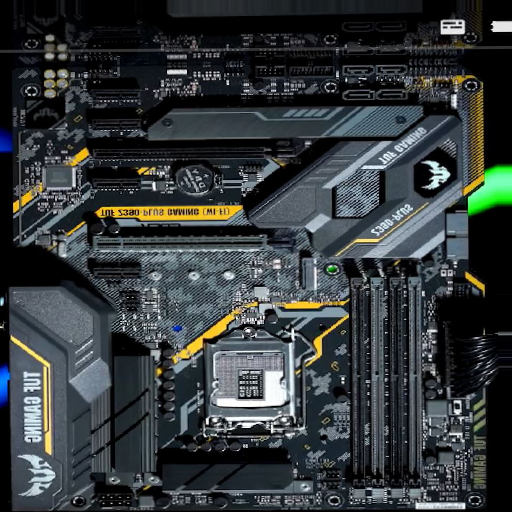CPU: (203, 324, 297, 440)
GPU: (90, 142, 303, 167), (90, 231, 296, 256)
MOTHERBOARD: (12, 64, 484, 510)
RAM: (351, 266, 424, 504)
SSD: (299, 256, 318, 297)
